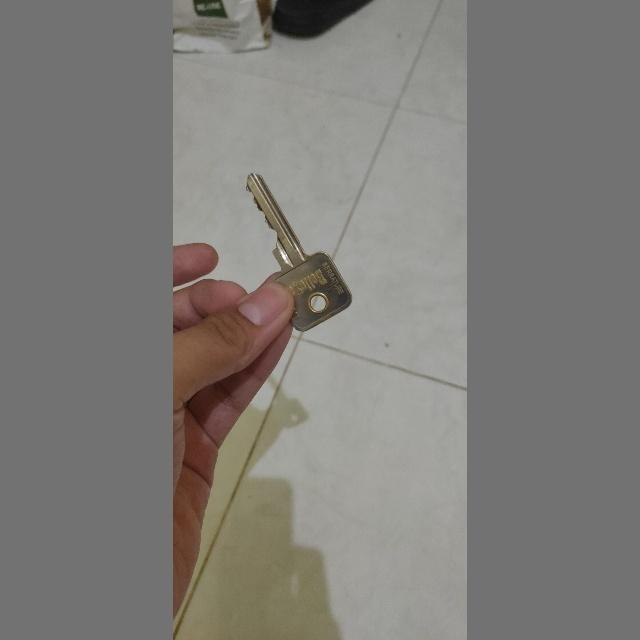Keys: (233, 158, 359, 338)
